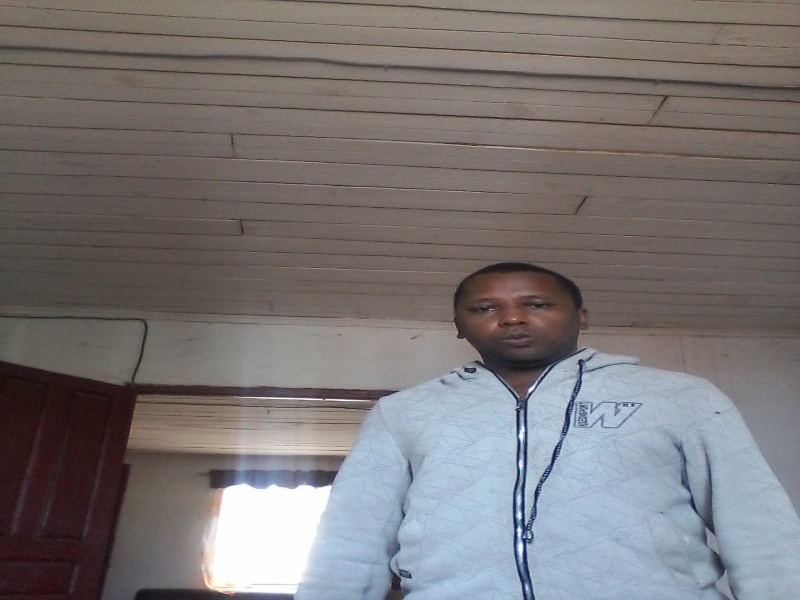TsisyArotava: (445, 253, 600, 384)
